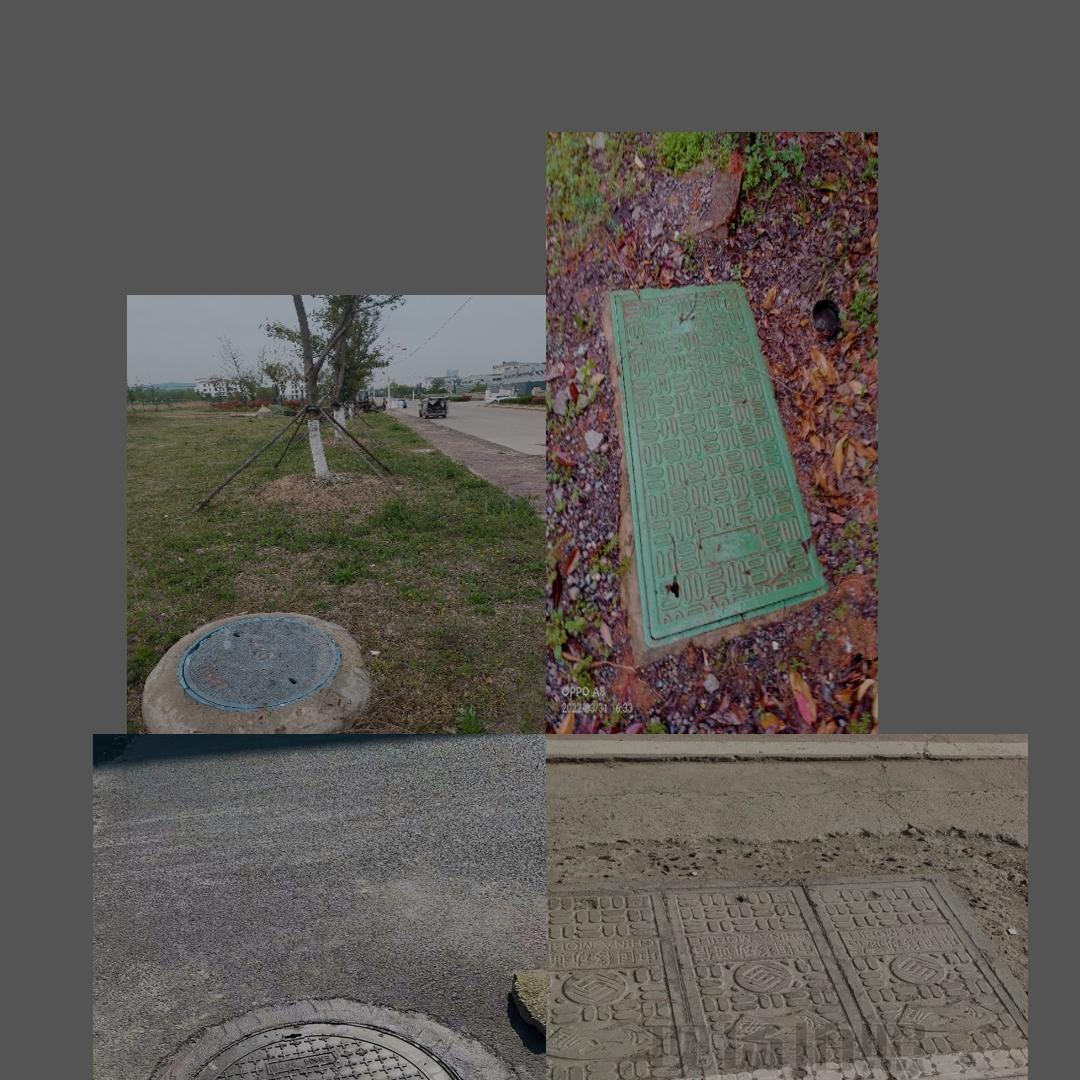good: (546, 872, 1028, 1080), (609, 279, 828, 646), (102, 997, 539, 1080), (176, 610, 343, 710)
